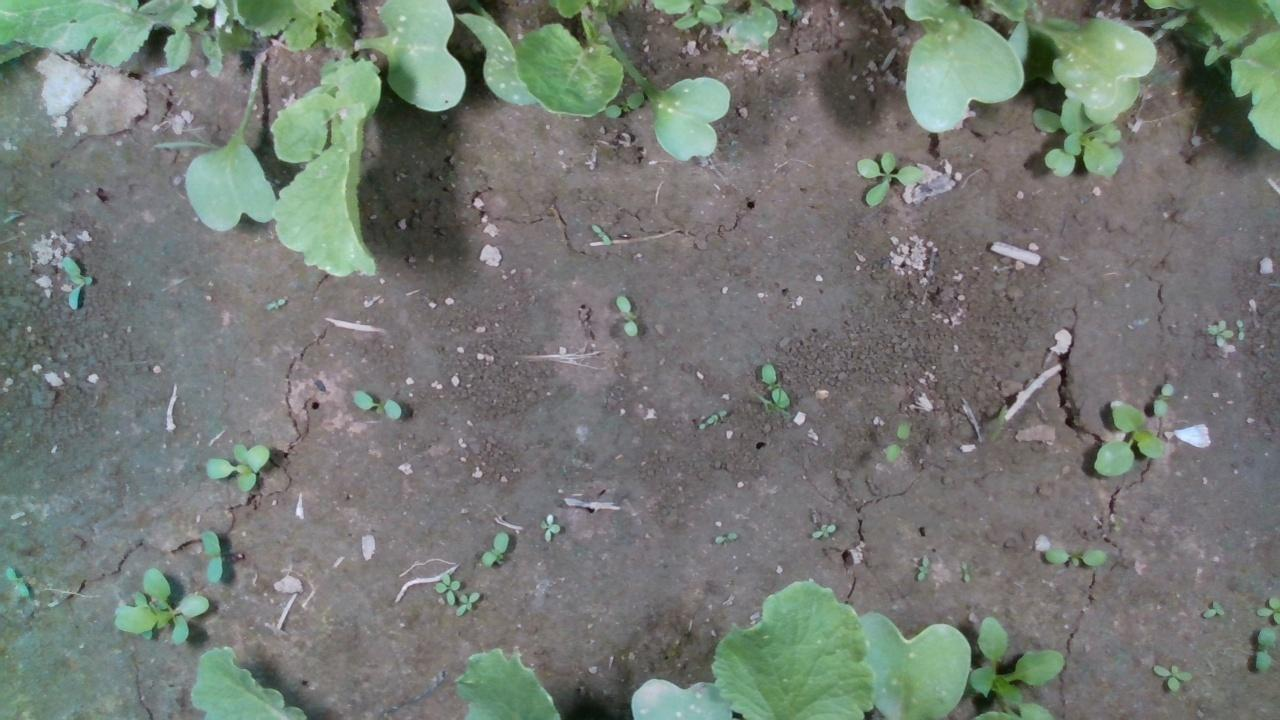weed: (852, 150, 927, 208), (202, 442, 271, 492), (349, 387, 404, 421), (60, 253, 92, 310), (196, 528, 225, 584), (882, 413, 912, 464), (1039, 546, 1107, 567), (609, 294, 640, 337), (1149, 661, 1193, 691), (0, 562, 34, 599), (1204, 316, 1235, 351), (1149, 381, 1175, 417), (539, 512, 562, 542), (589, 221, 614, 247), (807, 520, 837, 539), (1199, 598, 1227, 618), (1232, 315, 1248, 345), (911, 554, 930, 578), (711, 531, 738, 544)
